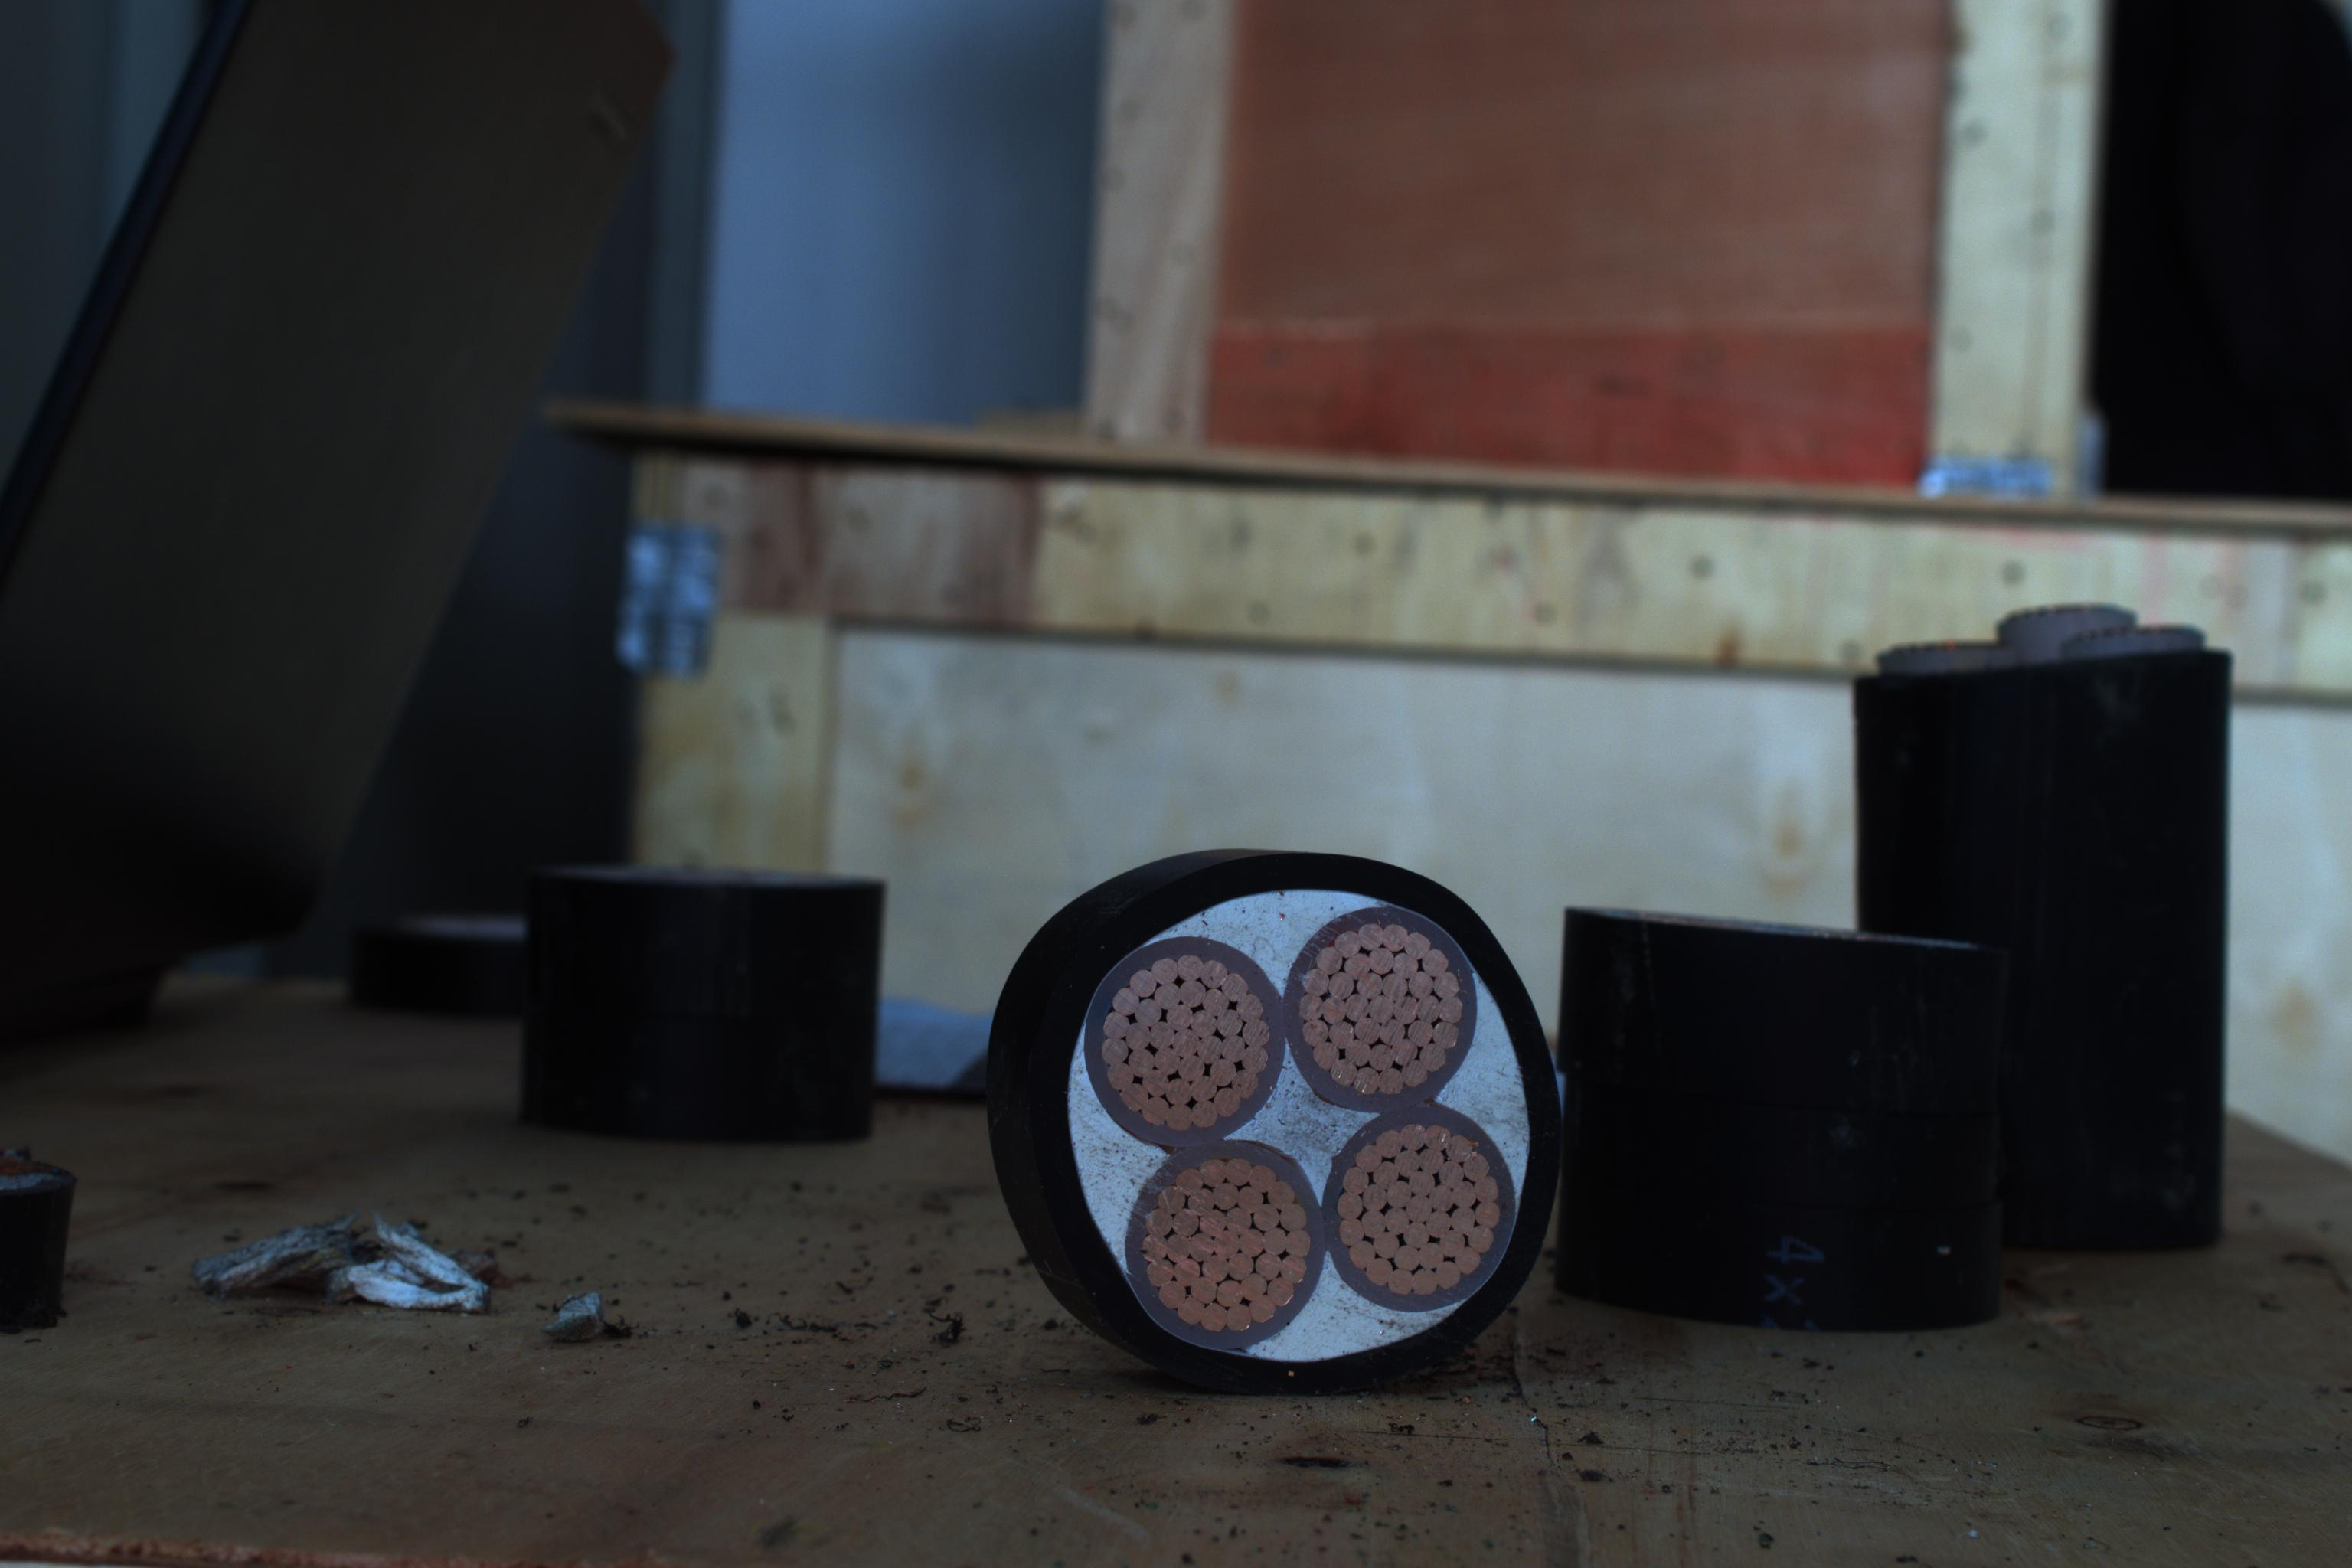YJV_0.6_1kV_4x240: (1025, 868, 1575, 1375)
